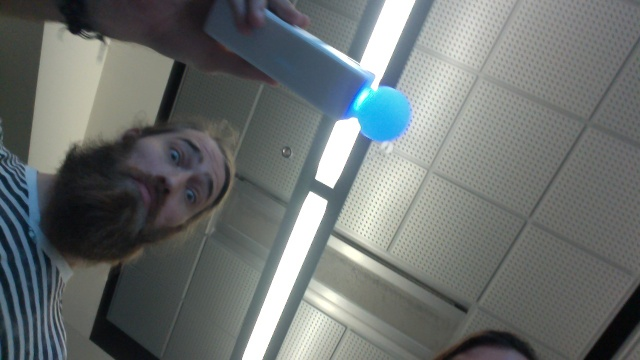wand: (356, 85, 412, 143)
